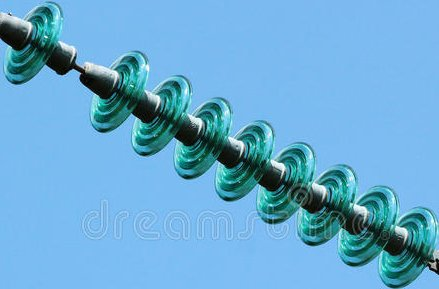gap: (3, 1, 151, 133)
